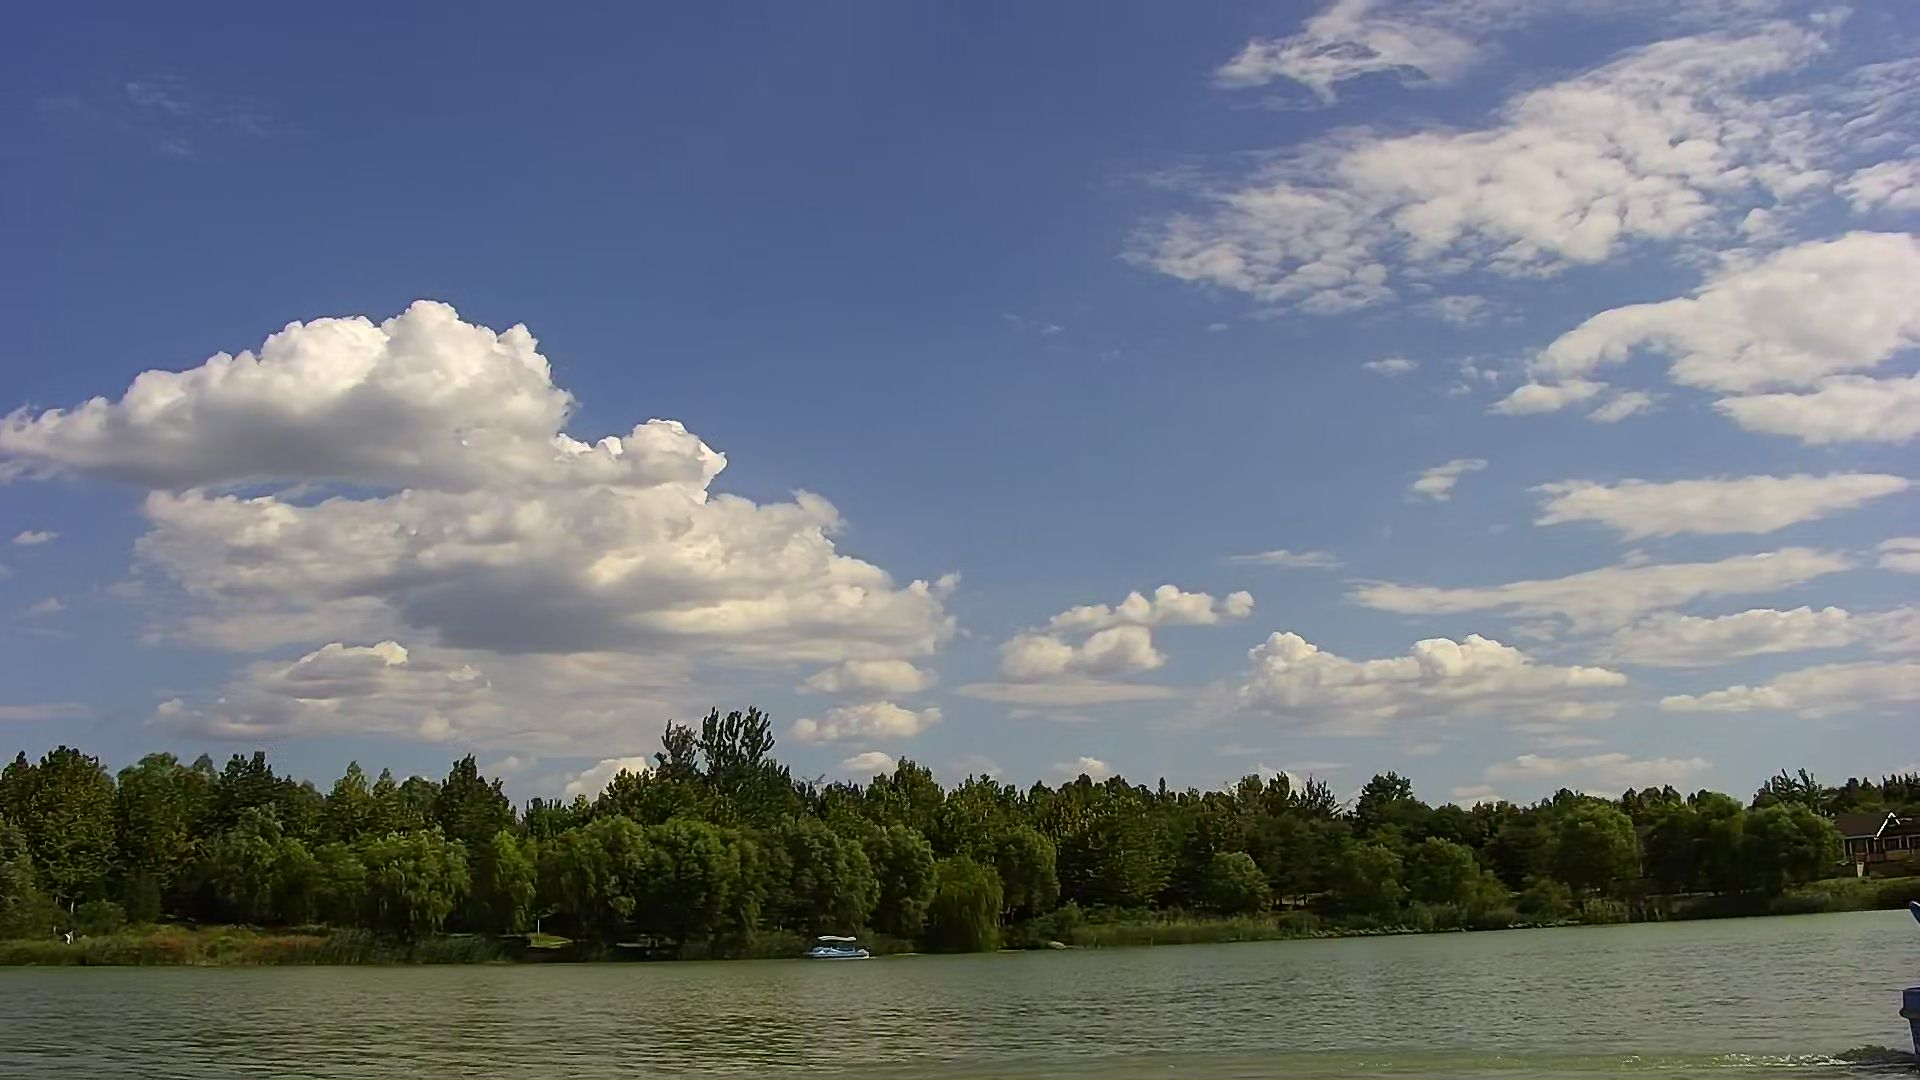boat: (806, 934, 869, 963)
